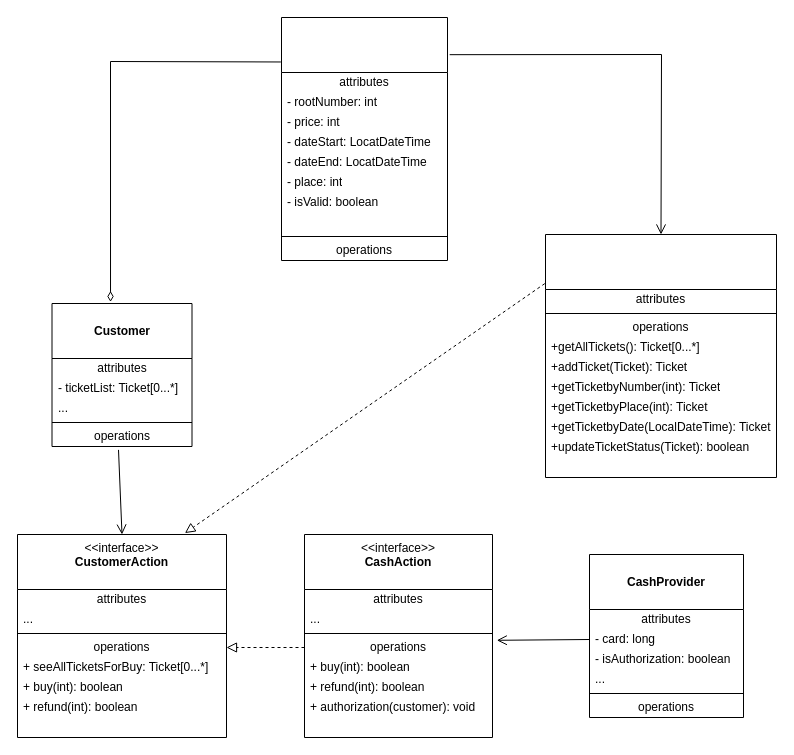
Image size: 794x755. Some labels were removed from this diagram. Each missing label, with the box of its shape:
<<interface>> TicketProvider: (544, 234, 776, 478)
Ticket {abstract}: (280, 16, 448, 260)
